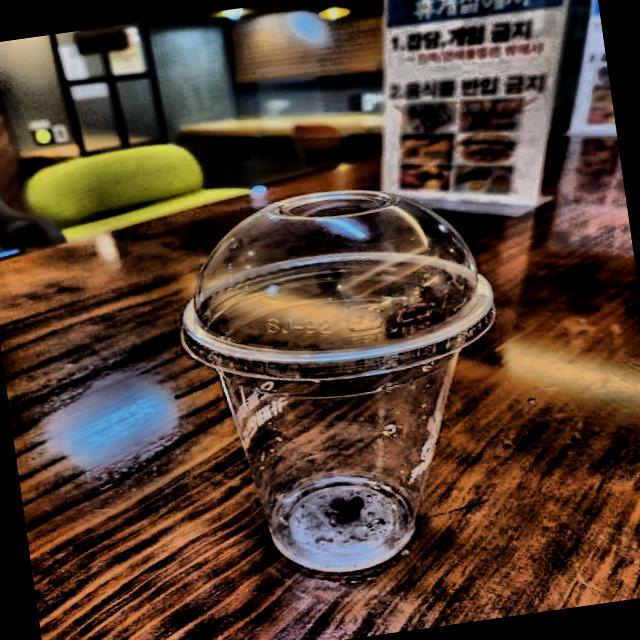plastic cup: (95, 135, 581, 640)
